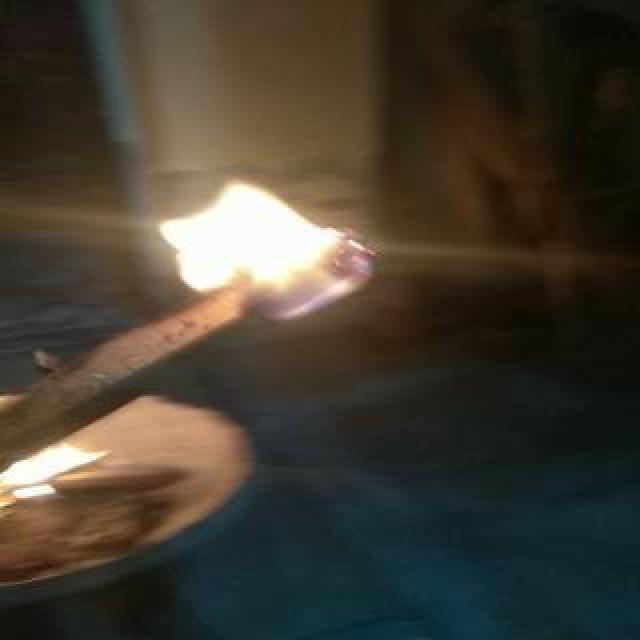zfire: (156, 168, 392, 342), (2, 442, 108, 510)
